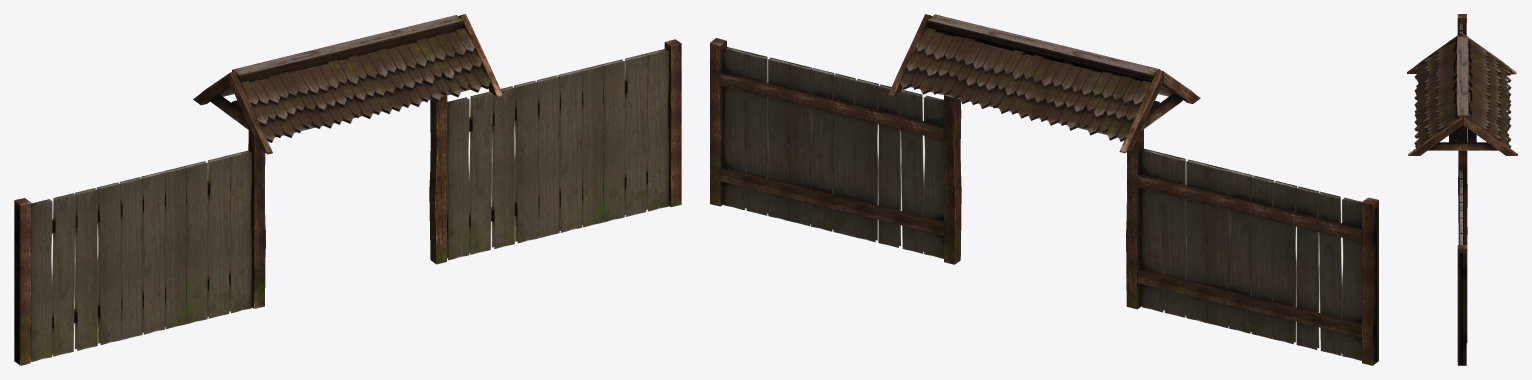
The picture shows the model from 3 angles, left to right: view 1: azimuth 30°, elevation 25°; view 2: azimuth 150°, elevation 25°; view 3: azimuth 270°, elevation 25°; orthographic projection. The views are drawn at different scales.
Visible parts, largest first — view 1: fence_painted:bar2_low1, fence_painted:bar_low13, fence_painted:roof_LOW144; view 2: fence_painted:bar2_low1, fence_painted:bar_low13, fence_painted:roof_LOW144; view 3: fence_painted:roof_LOW144, fence_painted:bar_low13, fence_painted:bar2_low1.
Boxes of the visible parts, bbox=[...] form: fence_painted:bar2_low1: bbox=[14, 150, 252, 365]; fence_painted:bar_low13: bbox=[447, 39, 681, 260]; fence_painted:roof_LOW144: bbox=[193, 14, 503, 308]; fence_painted:bar2_low1: bbox=[1137, 148, 1378, 365]; fence_painted:bar_low13: bbox=[710, 38, 943, 258]; fence_painted:roof_LOW144: bbox=[888, 14, 1200, 309]; fence_painted:roof_LOW144: bbox=[1407, 32, 1517, 244]; fence_painted:bar_low13: bbox=[1457, 170, 1467, 365]; fence_painted:bar2_low1: bbox=[1457, 14, 1466, 35].
Size of the model in its own units: 30.96 by 10.75 by 6.17.
1 material, 1 textured.
